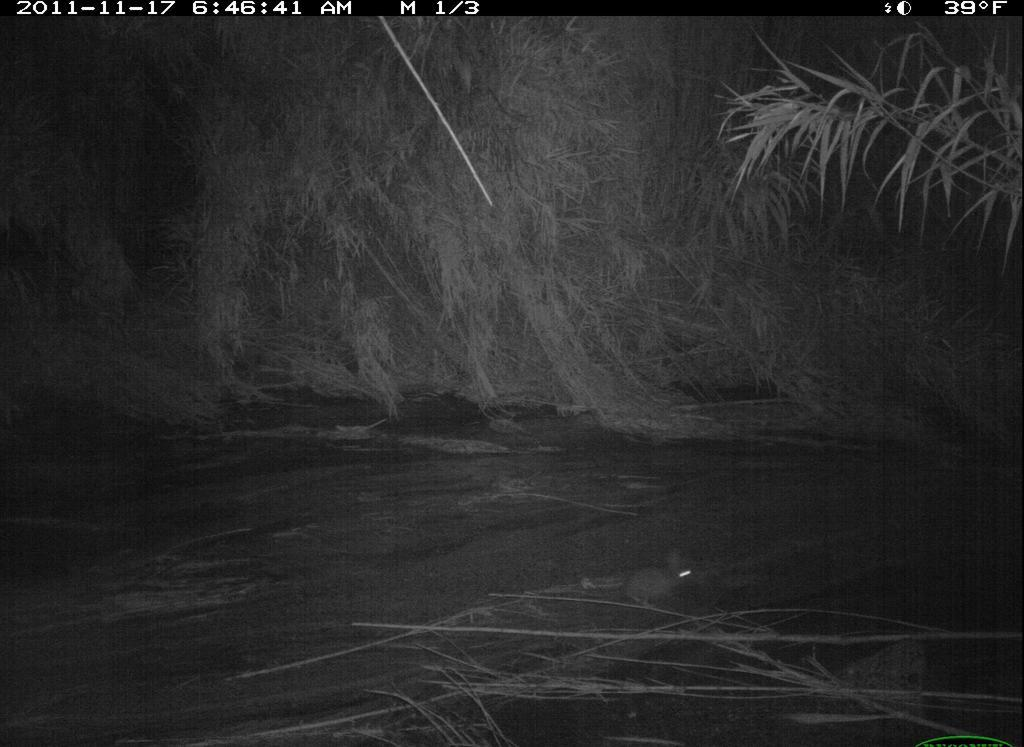rabbit: (621, 546, 706, 611)
